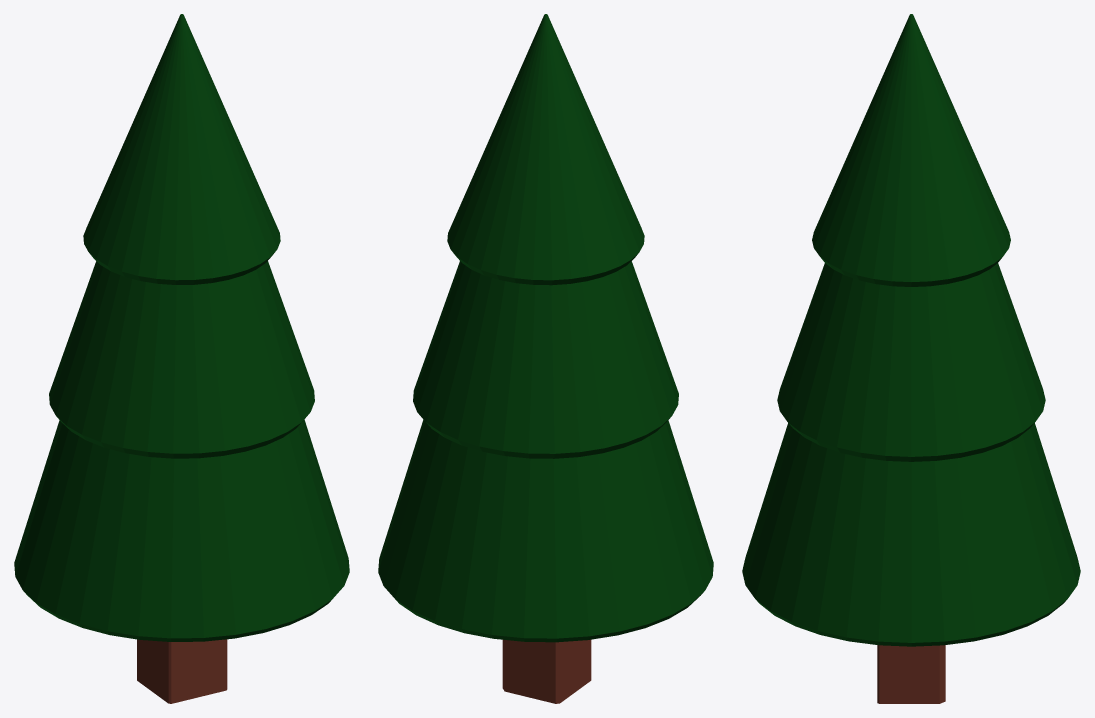
The model's file is PineTree.fbx.
3 views of the same model, side by side, from view 1: azimuth 30°, elevation 25°; view 2: azimuth 150°, elevation 25°; view 3: azimuth 270°, elevation 25° (orthographic).
Visible parts, largest first — view 1: PineTree; view 2: PineTree; view 3: PineTree.
Boxes of the visible parts, bbox=[...] form: PineTree: bbox=[14, 14, 349, 703]; PineTree: bbox=[378, 14, 713, 703]; PineTree: bbox=[742, 14, 1080, 703].
Size of the model in its own units: 1.98 by 4.35 by 1.98.
